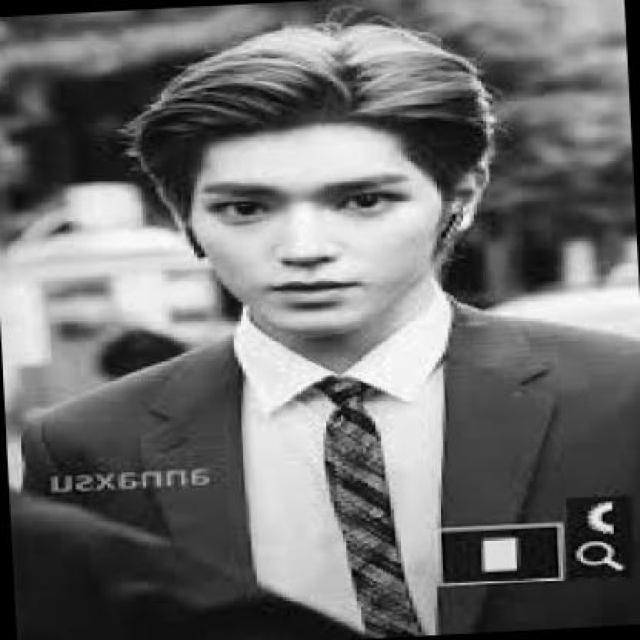earphone: (152, 205, 215, 286), (439, 178, 477, 275)
